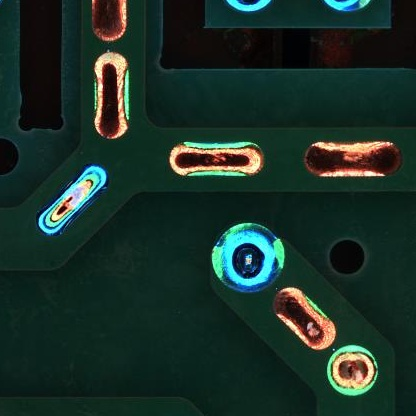spot: (211, 221, 284, 293)
